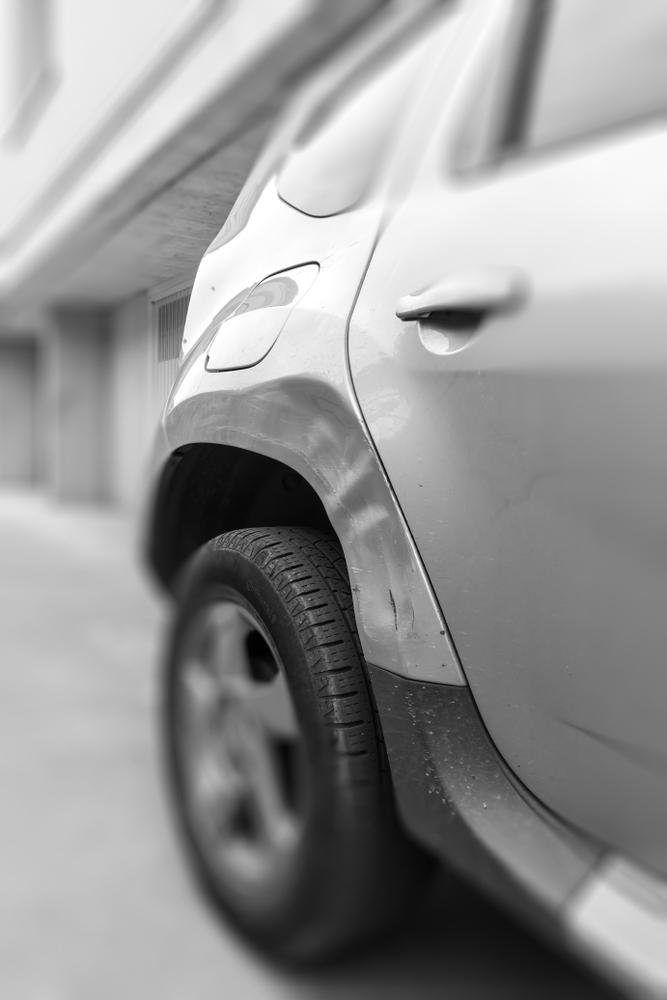dent: (228, 378, 412, 638)
